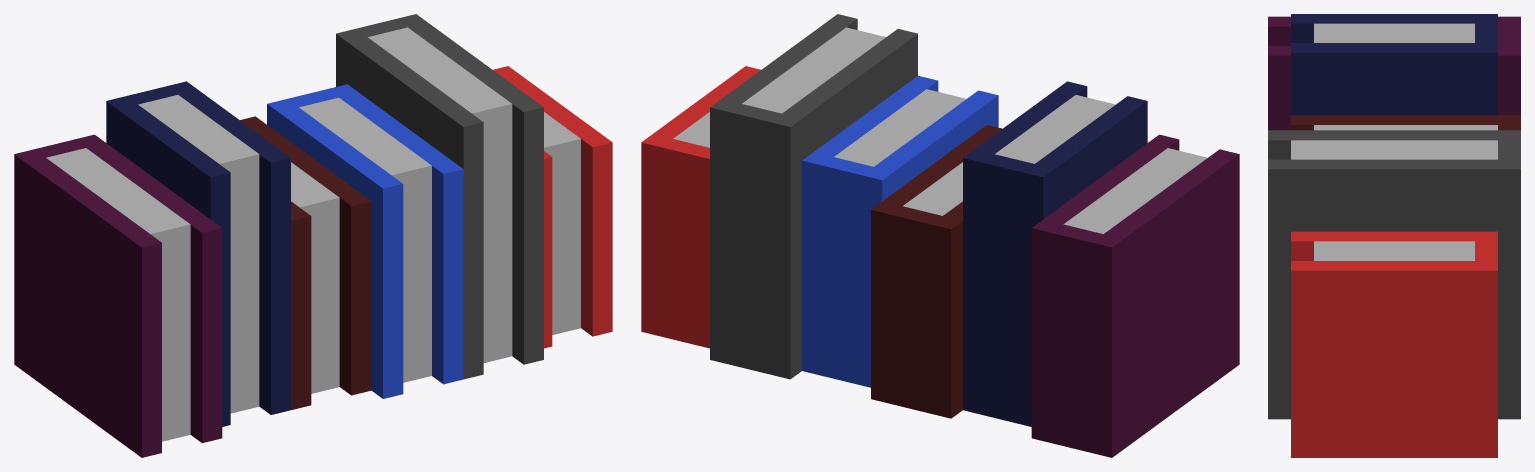
The model's file is books_02.glb.
The picture shows the model from 3 angles, left to right: view 1: azimuth 30°, elevation 25°; view 2: azimuth 150°, elevation 25°; view 3: azimuth 270°, elevation 25°; orthographic projection.
Parts seen in each view (by area): view 1: Untitled; view 2: Untitled; view 3: Untitled.
Part boxes in pixels (x1,y1,x2,y2): Untitled: (14,14,612,457); Untitled: (641,14,1239,457); Untitled: (1268,14,1520,457).
Bounding box in the file's own units: 0.72 × 0.36 × 0.33.
1 material, 1 textured.
